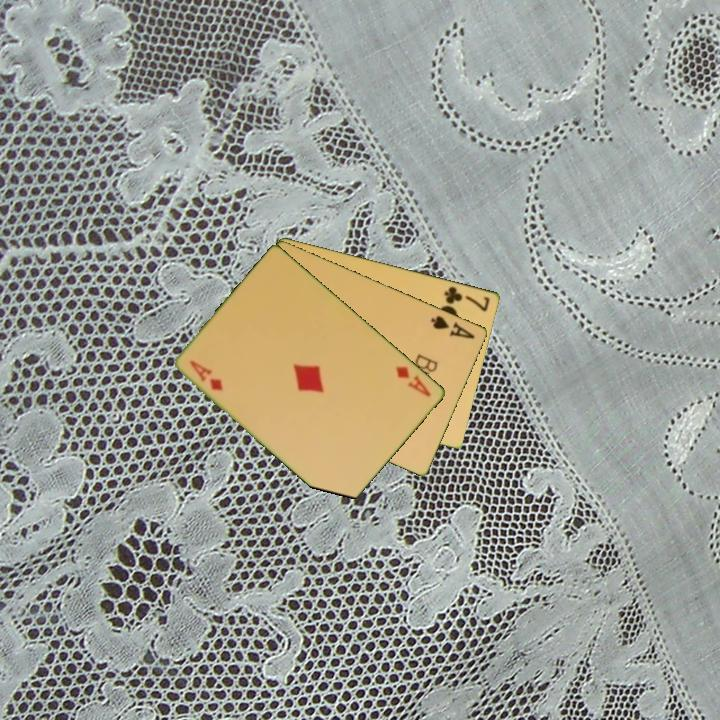7c: (441, 282, 493, 314)
Ad: (392, 363, 434, 400), (186, 357, 226, 394)
As: (427, 312, 478, 342)
